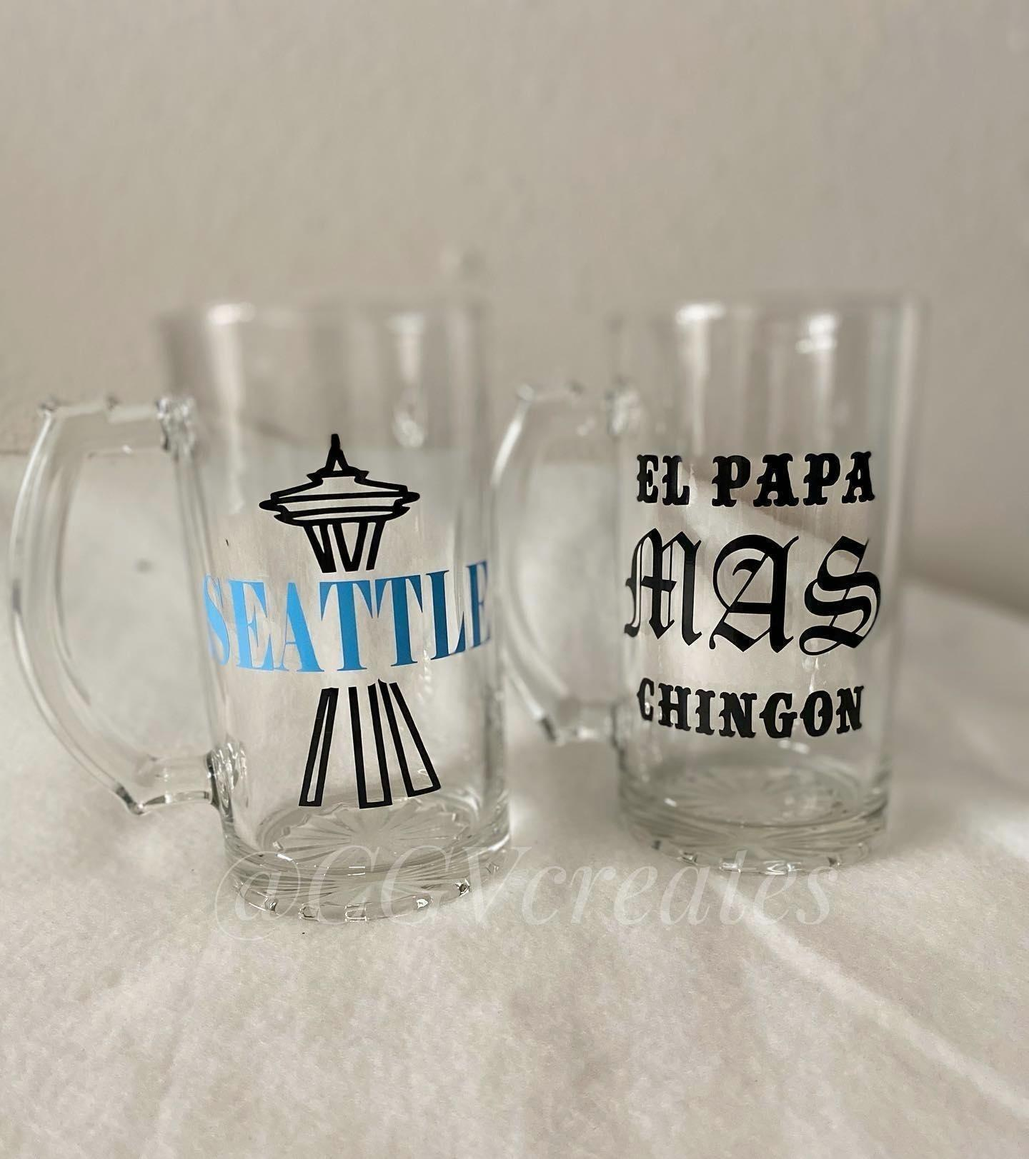glass-mug: (4, 265, 526, 933), (494, 278, 928, 882)
